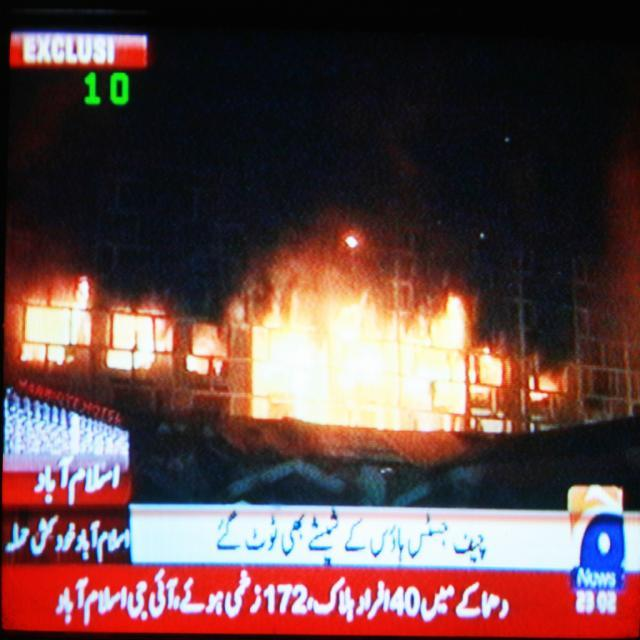Fire: (265, 294, 461, 426)
